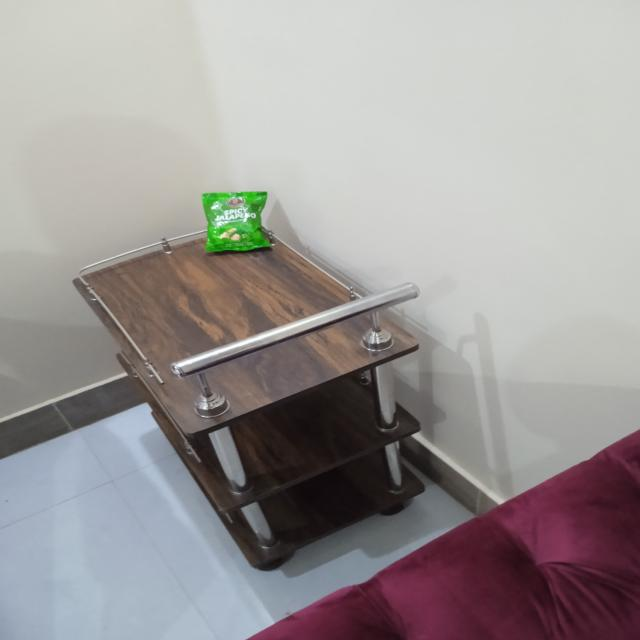Plastic: (206, 188, 270, 254)
